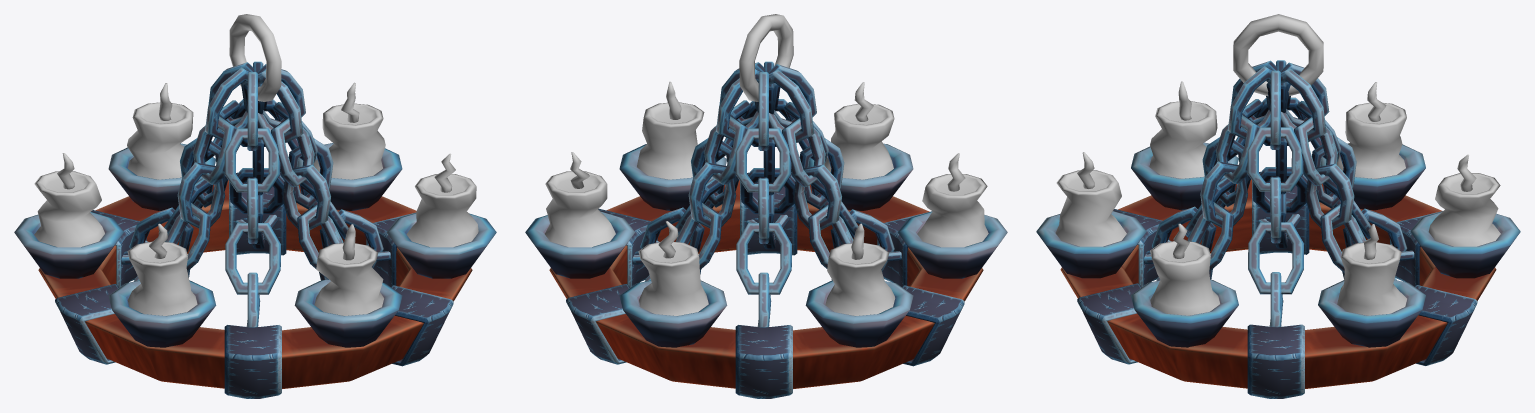
Rendered from chandelier_interactive.fbx.
The picture shows the model from 3 angles, left to right: view 1: azimuth 30°, elevation 25°; view 2: azimuth 150°, elevation 25°; view 3: azimuth 270°, elevation 25°; orthographic projection.
Visible parts, largest first — view 1: base, hoop.001, candle.020, candle.017, candle, candle.021, candle.019, candle.018, candle_holder.013, candle_holder, candle_holder.012, candle_holder.009 (+34 smaller); view 2: base, candle.018, hoop.003, candle.021, candle.019, candle.020, candle.017, candle, candle_holder.011, candle_holder.012, candle_holder.013, candle_holder.010 (+33 smaller); view 3: base, hoop.005, candle, candle.019, candle.017, candle.021, candle.018, candle.020, candle_holder.010, candle_holder.009, candle_holder, candle_holder.011 (+33 smaller).
Boxes of the visible parts, box(x1,y1,x2,y2) form: base: box(38, 180, 472, 388); hoop.001: box(224, 325, 281, 398); candle.020: box(34, 171, 104, 247); candle.017: box(406, 174, 478, 247); candle: box(314, 243, 383, 315); candle.021: box(127, 241, 197, 315); candle.019: box(127, 102, 194, 179); candle.018: box(313, 103, 385, 179); candle_holder.013: box(108, 280, 216, 347); candle_holder: box(294, 279, 402, 347); candle_holder.012: box(14, 212, 124, 278); candle_holder.009: box(386, 213, 496, 278); base: box(549, 180, 983, 388); candle.018: box(545, 171, 615, 247); hoop.003: box(735, 325, 792, 398); candle.021: box(917, 174, 988, 247); candle.019: box(638, 242, 708, 315); candle.020: box(825, 242, 895, 315); candle.017: box(637, 102, 705, 179); candle: box(824, 103, 894, 179); candle_holder.011: box(619, 280, 727, 347); candle_holder.012: box(805, 280, 913, 347); candle_holder.013: box(897, 211, 1007, 278); candle_holder.010: box(525, 211, 635, 278); base: box(1060, 179, 1496, 388); hoop.005: box(1247, 324, 1304, 398); candle: box(1055, 170, 1126, 246); candle.019: box(1428, 173, 1500, 246); candle.017: box(1150, 241, 1219, 315); candle.021: box(1149, 101, 1217, 178); candle.018: box(1337, 242, 1406, 315); candle.020: box(1336, 102, 1406, 178); candle_holder.010: box(1318, 280, 1425, 347); candle_holder.009: box(1131, 279, 1238, 347); candle_holder: box(1036, 211, 1146, 278); candle_holder.011: box(1410, 211, 1520, 278).
Size of the model in its own units: 2493 by 1865 by 2723.
